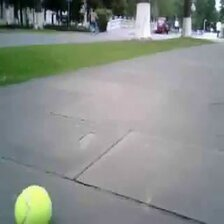tennis: (14, 185, 52, 224)
